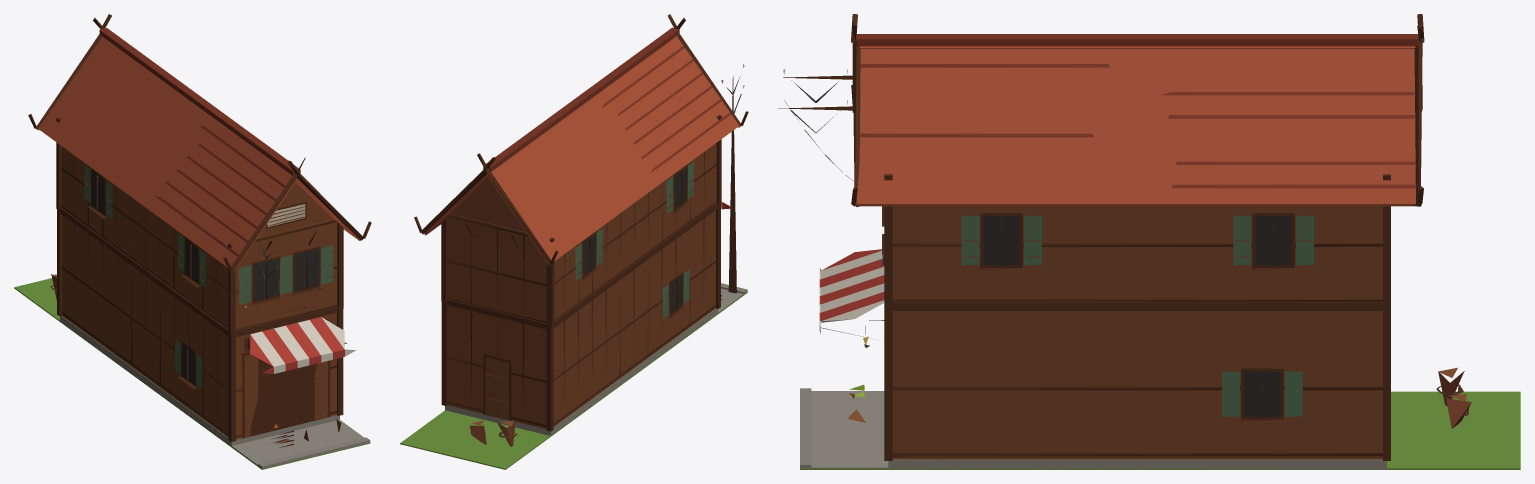
Rendered from bay1_one.glb.
The picture shows the model from 3 angles, left to right: view 1: azimuth 30°, elevation 25°; view 2: azimuth 150°, elevation 25°; view 3: azimuth 270°, elevation 25°; orthographic projection. The views are drawn at different scales.
Parts seen in each view (by area): view 1: body, windows; view 2: body, windows; view 3: body, windows.
Part boxes in pixels (x1,y1,x2,y2): body: [14, 14, 371, 469]; windows: [91, 171, 318, 383]; body: [400, 14, 748, 469]; windows: [583, 167, 687, 313]; body: [778, 14, 1520, 469]; windows: [863, 215, 1291, 416].
Size of the model in its own units: 5.46 by 10.18 by 16.4.
